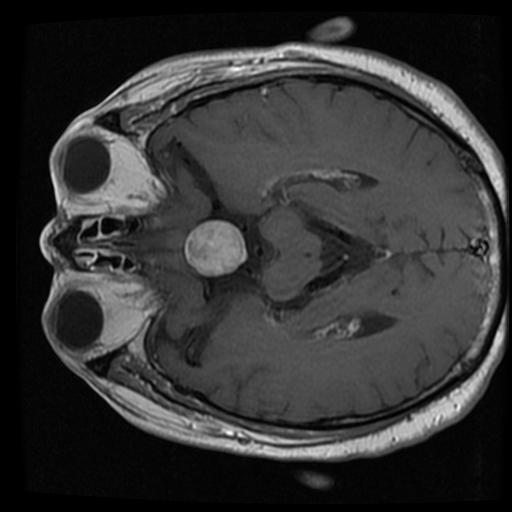pituitary tumour: (184, 221, 247, 276)
